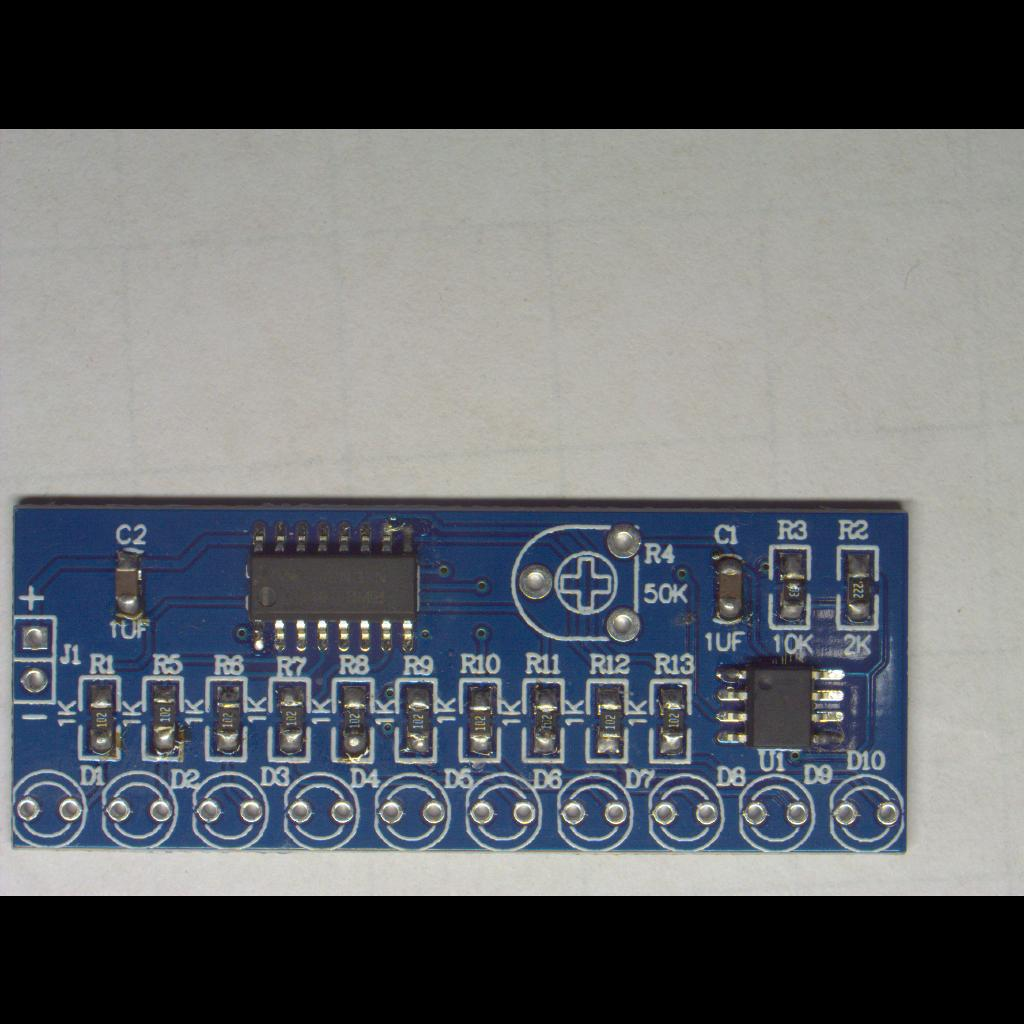OK: (239, 513, 429, 661), (710, 653, 856, 759), (644, 674, 696, 768), (456, 672, 506, 768), (518, 674, 568, 770), (200, 672, 252, 764), (830, 543, 882, 635), (75, 671, 125, 765), (140, 672, 188, 766), (266, 674, 314, 768), (328, 676, 378, 766), (392, 676, 442, 766), (584, 675, 632, 765), (768, 544, 814, 632), (706, 546, 752, 632), (108, 544, 150, 628)
